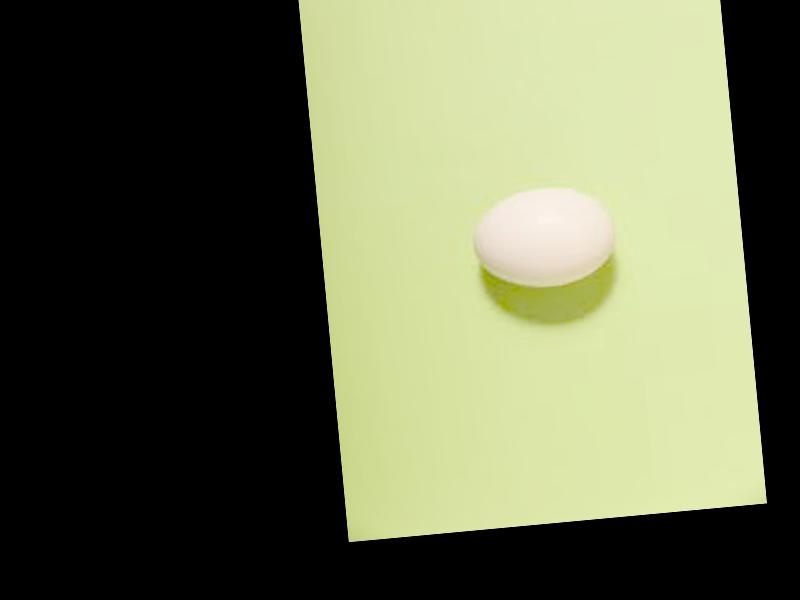Eggs: (466, 184, 619, 293)
